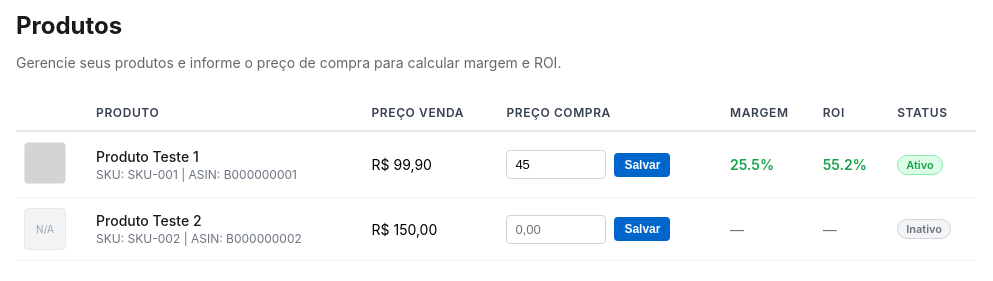
Test: ProductsPage › validates cost price must be positive
Expected: the text "Produto Teste 2" is shown, 96,212 -> 202,229
Step 1. Type "0" into the field with placeholder "0,00" → [556, 229], box 506,215 -> 606,244
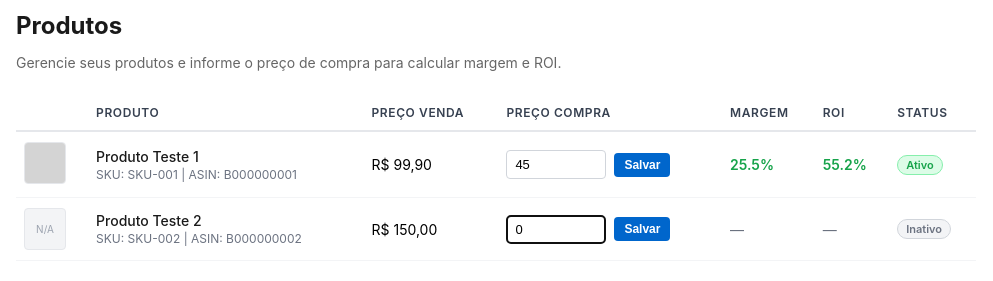
// Click save for product 2
Step 2. Click the button "Salvar" in the row of "N/A" → [642, 229], box 614,217 -> 670,241
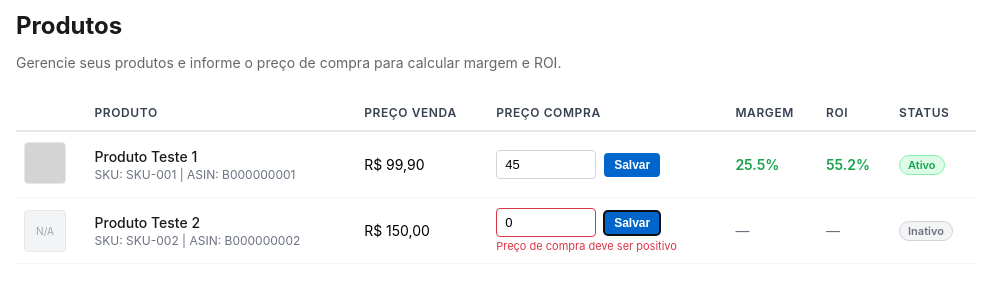
Now the text "Preço de compra deve ser positivo" is shown, box 496,239 -> 677,253
